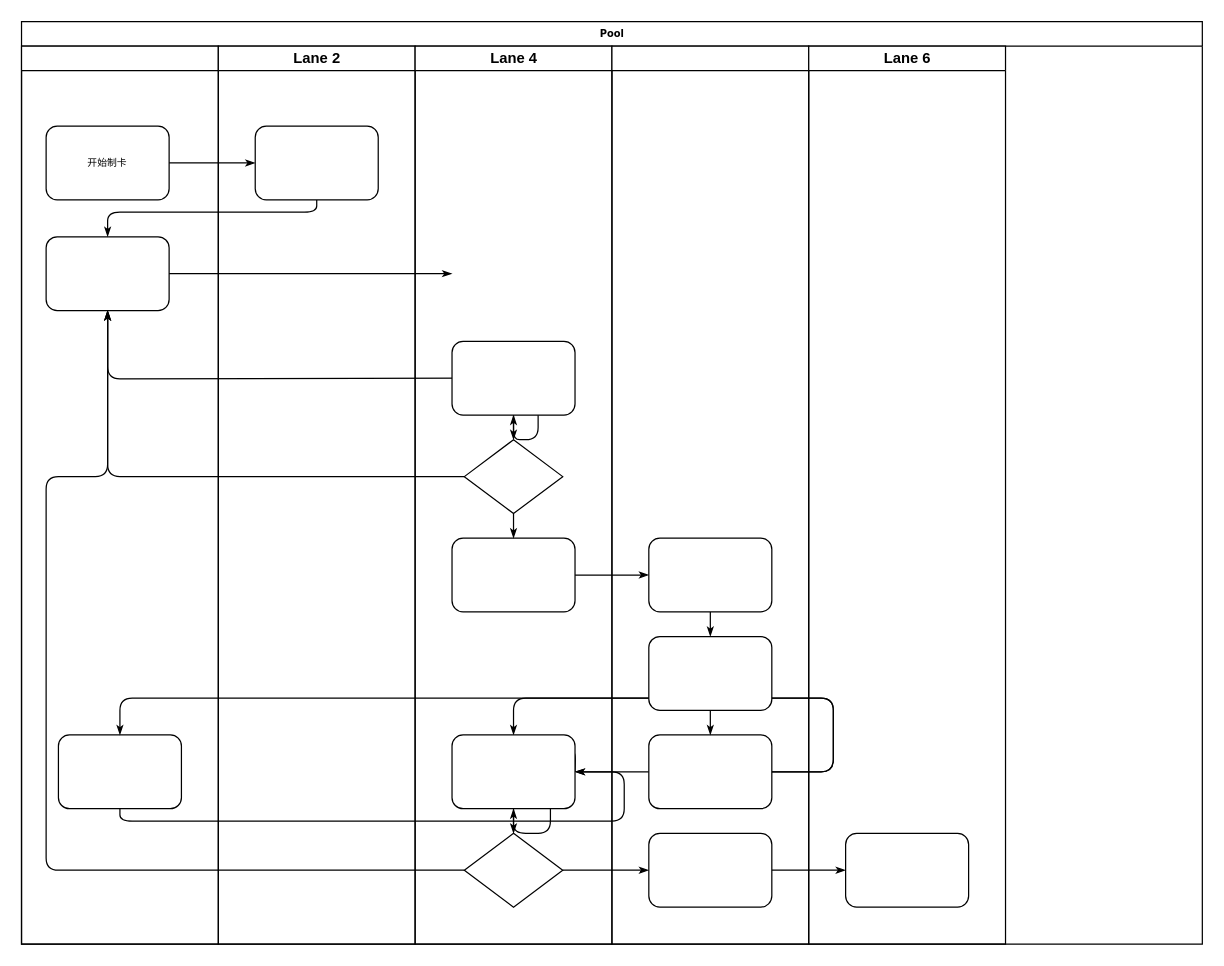
Image size: 1224x966. Some labels were removed from this diagram. The shapes that lost their labels are listed below. From the top down, each one's box as (x1, y1, x2, y2) in pixels, then its label:
(254, 125, 378, 200): 调用控件
(20, 45, 218, 944): Lane 1
(611, 45, 809, 944): Lane 5
